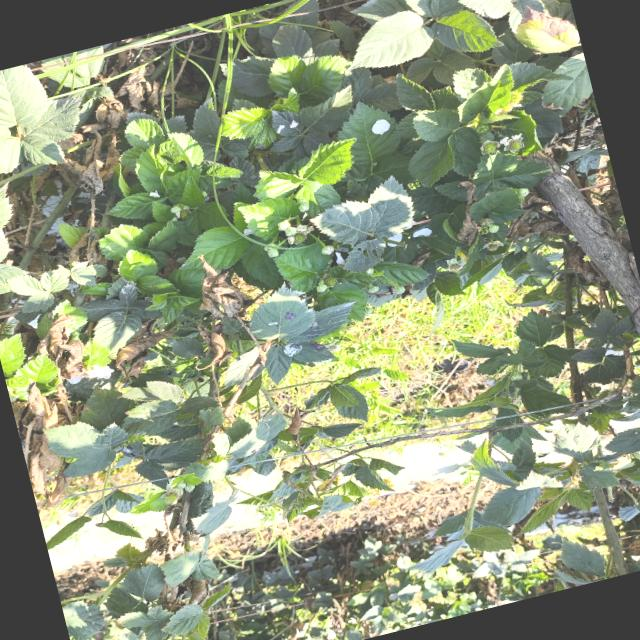boton: (516, 188, 529, 199), (298, 200, 309, 212), (367, 284, 380, 294), (285, 226, 297, 236), (321, 245, 334, 254), (316, 282, 327, 292), (267, 248, 278, 257), (488, 224, 499, 233), (395, 285, 405, 294)
